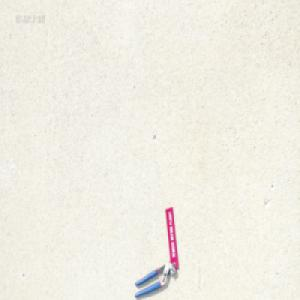Label: (165, 206, 179, 268)
Pliers: (134, 261, 175, 297)
